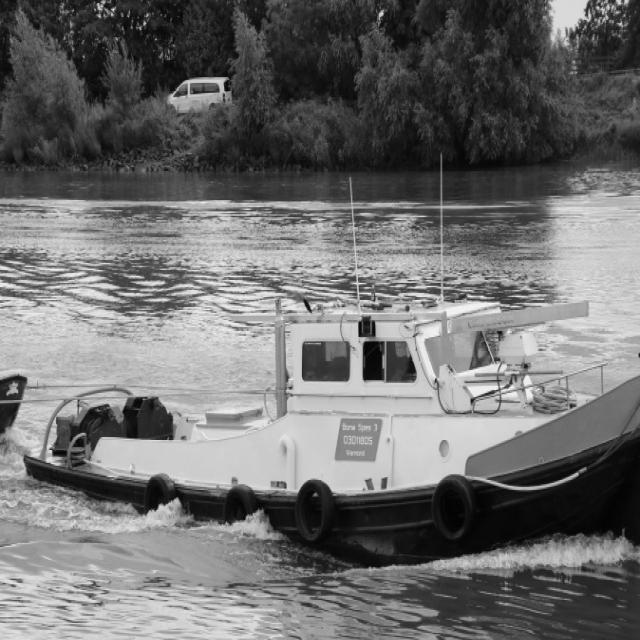tugboat: (18, 280, 640, 601)
